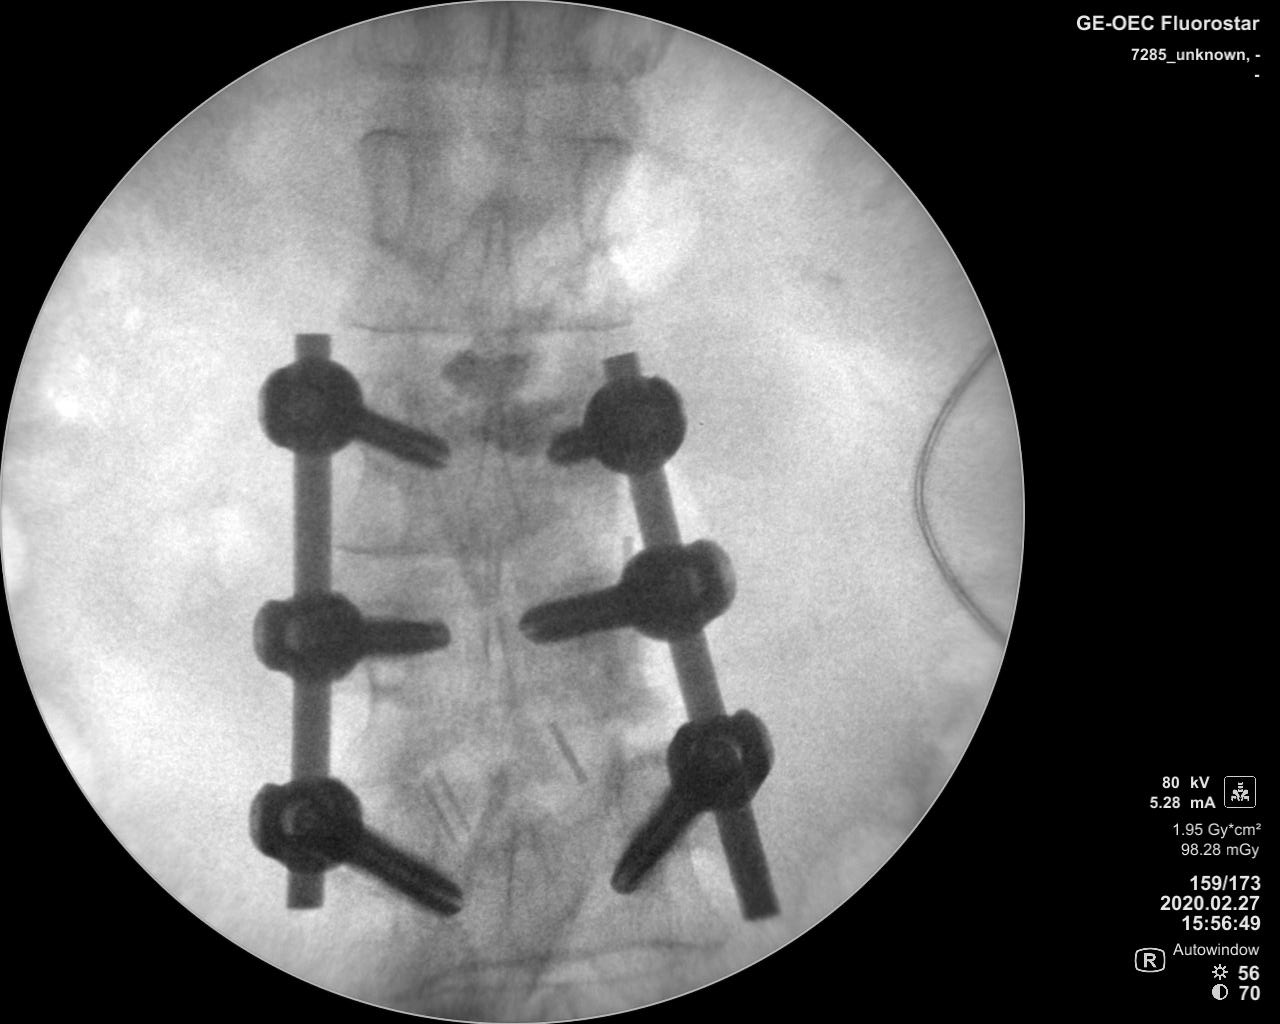eyes: (569, 133, 634, 251), (360, 126, 415, 246), (360, 609, 406, 690)
line: (379, 938, 727, 995), (357, 117, 649, 153), (368, 55, 652, 87), (331, 528, 615, 558), (346, 310, 634, 338)
nose: (464, 389, 523, 549), (474, 1, 530, 148), (469, 200, 521, 354), (474, 606, 516, 736)
